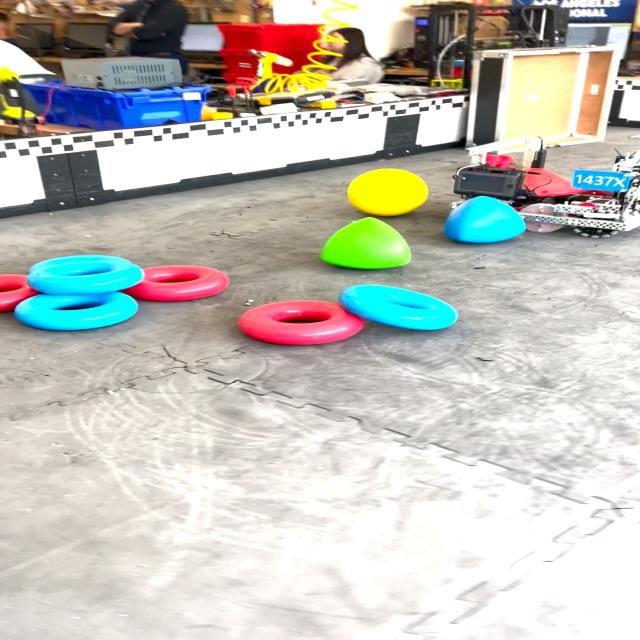Blue-Ring: (340, 285, 458, 330), (16, 291, 138, 330), (27, 255, 144, 295)
Red-Ring: (238, 300, 364, 345), (122, 265, 229, 301), (0, 274, 40, 312)
